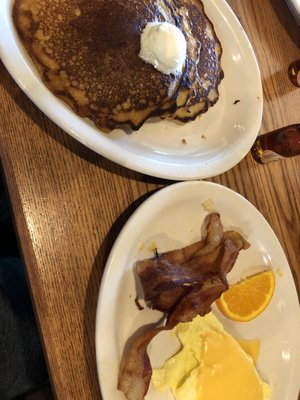salad: (250, 122, 300, 165)
taco: (213, 270, 275, 323)
